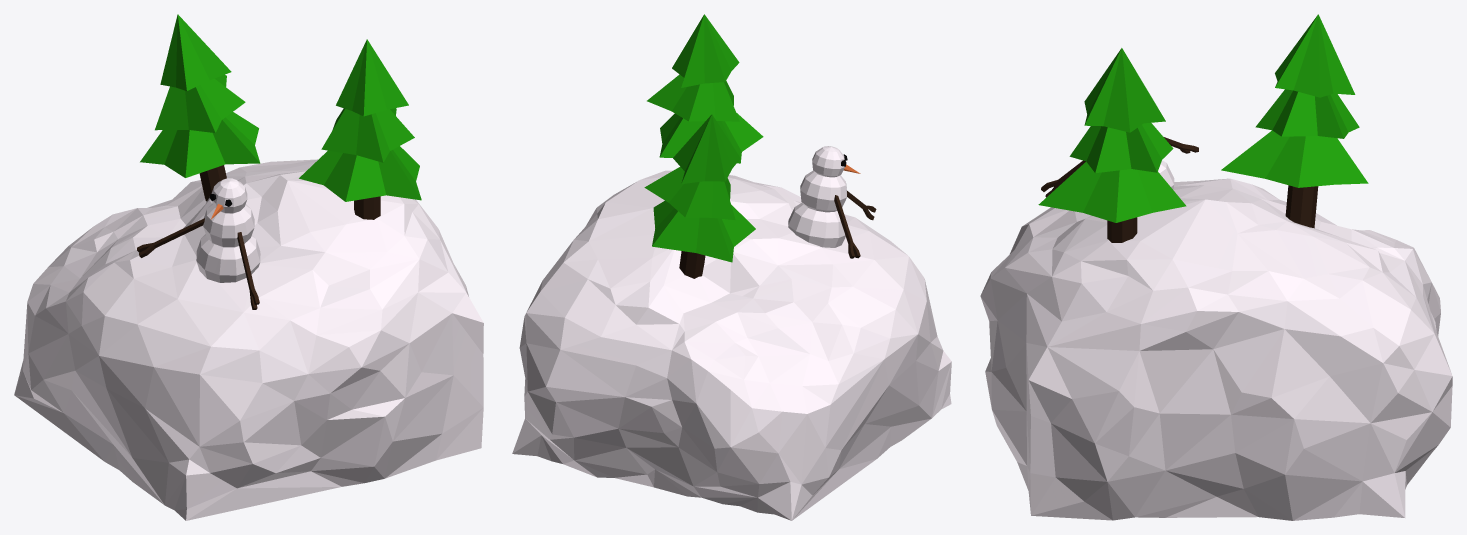
Rendered from Christmass_Decor_3.fbx.
3 views of the same model, side by side, from view 1: azimuth 30°, elevation 25°; view 2: azimuth 150°, elevation 25°; view 3: azimuth 270°, elevation 25° (orthographic). The views are drawn at different scales.
Parts seen in each view (by area): view 1: Christmass_Decor_3; view 2: Christmass_Decor_3; view 3: Christmass_Decor_3.
Part boxes in pixels (<box>): Christmass_Decor_3: <box>14,14,483,520</box>; Christmass_Decor_3: <box>512,14,951,520</box>; Christmass_Decor_3: <box>980,14,1452,520</box>.
Size of the model in its own units: 253 by 254 by 233.
